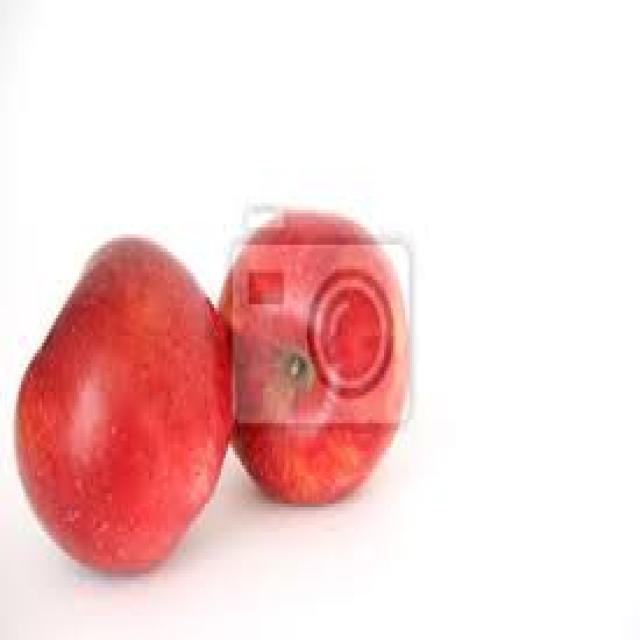non_orange: (3, 210, 252, 568), (194, 187, 421, 546)
